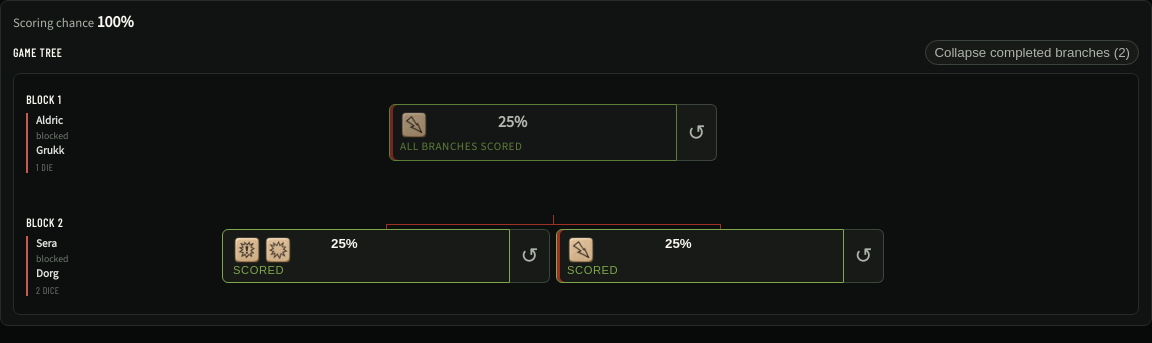
Test: BranchStrip game tree › turns a parent green when every ending universe below it scored
Expected: the element labelled "25% All branches scored" is shown, [389,104,677,161]
Click the button "Collapse completed branches (2)" at (1032, 52), box [925,40,1139,65]
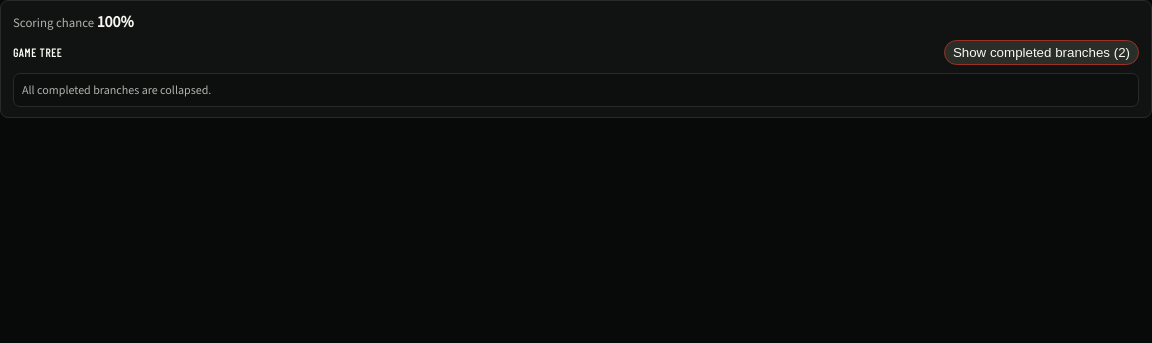
Result: the text "All completed branches are collapsed." is shown at [22,82,211,98]
Result: the button "Show completed branches (2)" is shown at [944,40,1139,65]
